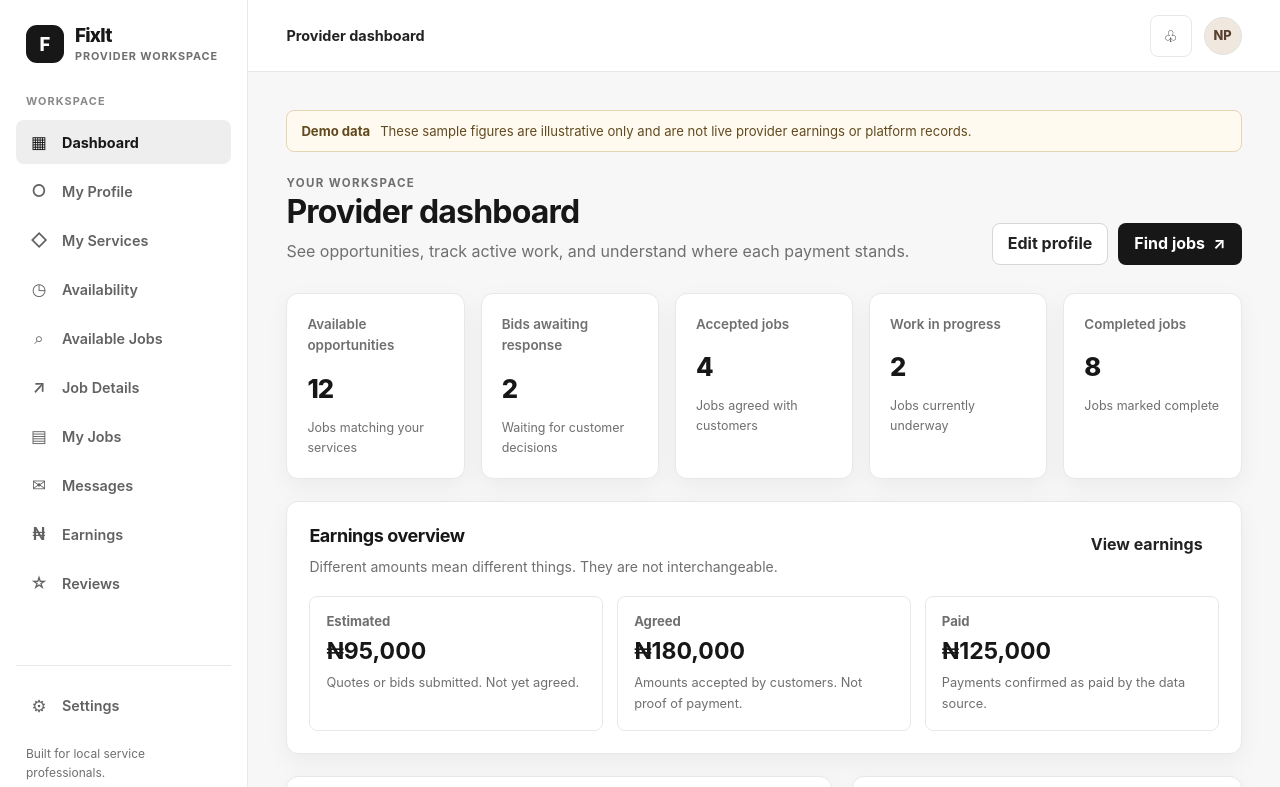
provider workspace navigation › opens the Available Jobs screen and marks it active
Click the text "Available Jobs" at (112, 338), box x1=62 y1=330 x2=163 y2=347
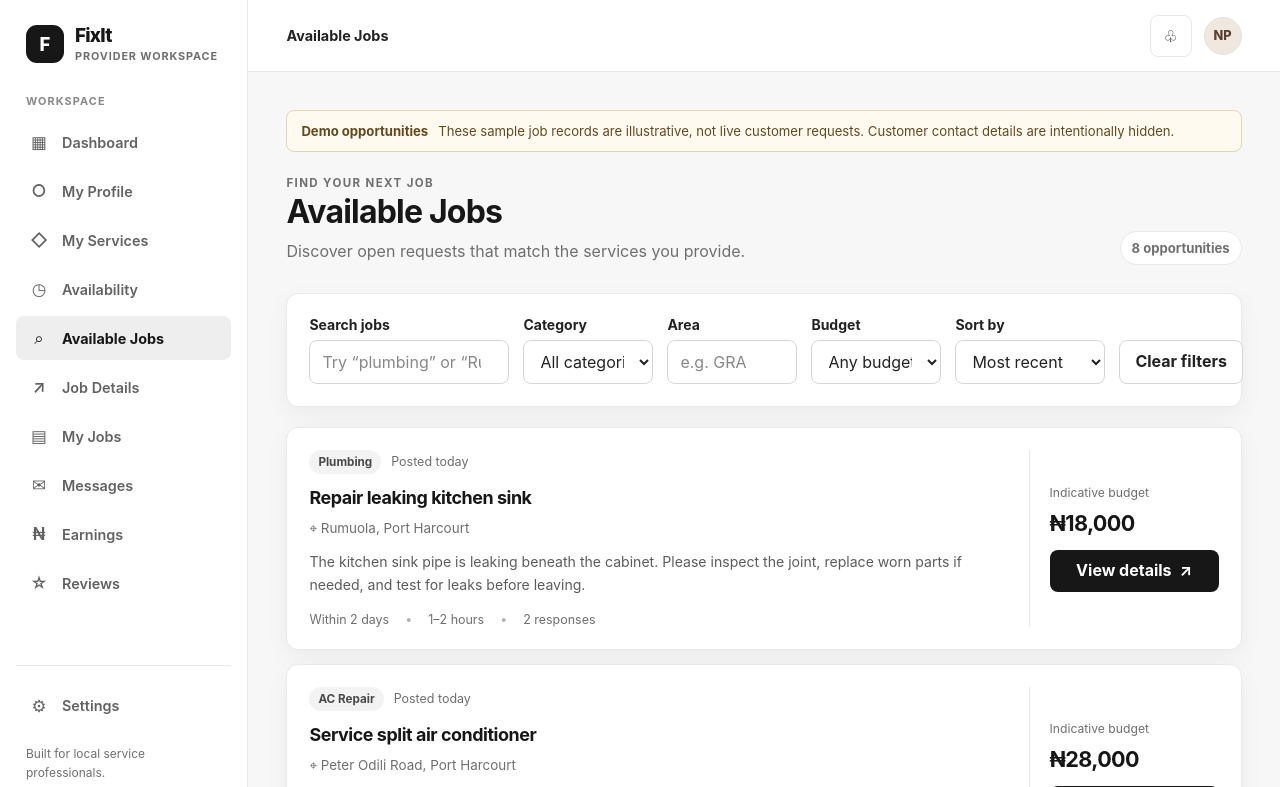
Check: the heading "Available Jobs" is shown, box x1=286 y1=192 x2=502 y2=231
